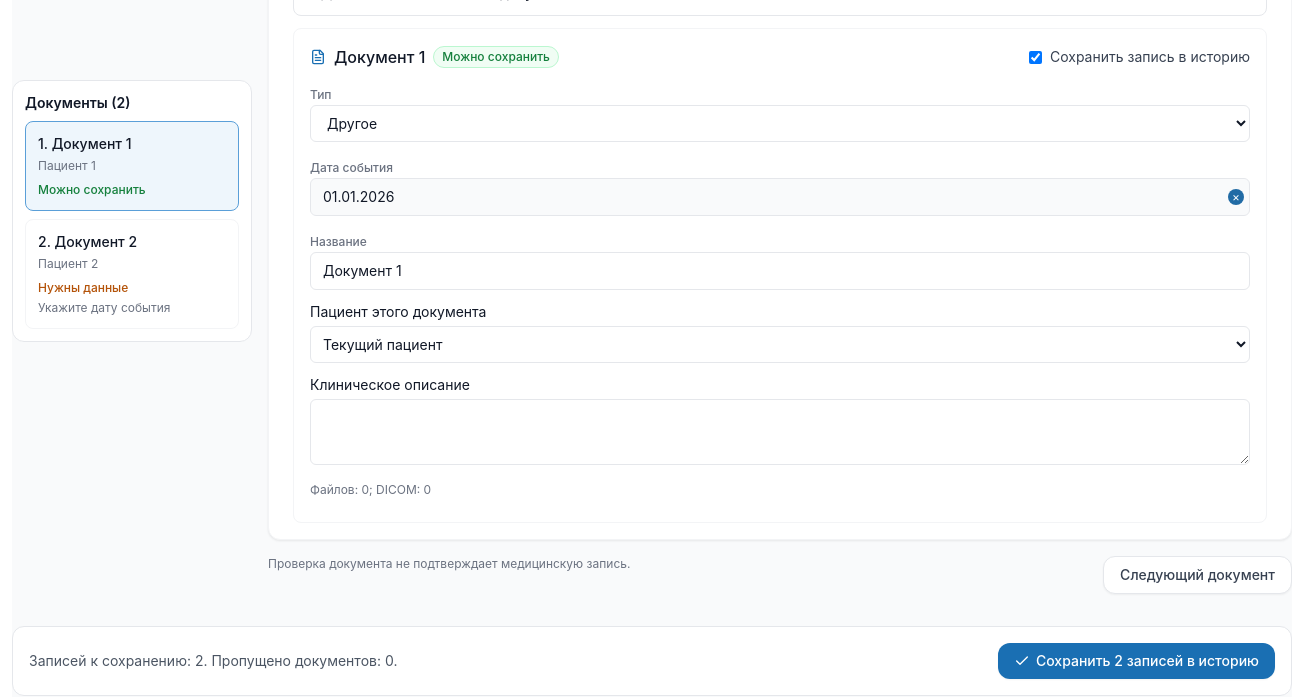
opens the missing-date document before asking the doctor to resolve it
(page scrolled)
Expected: the field labelled "Название" is shown, [310,252,1250,290]
Click the button "Сохранить 2 записей в историю". click: (1136, 661)
box: [998,643,1275,679]
(page scrolled)
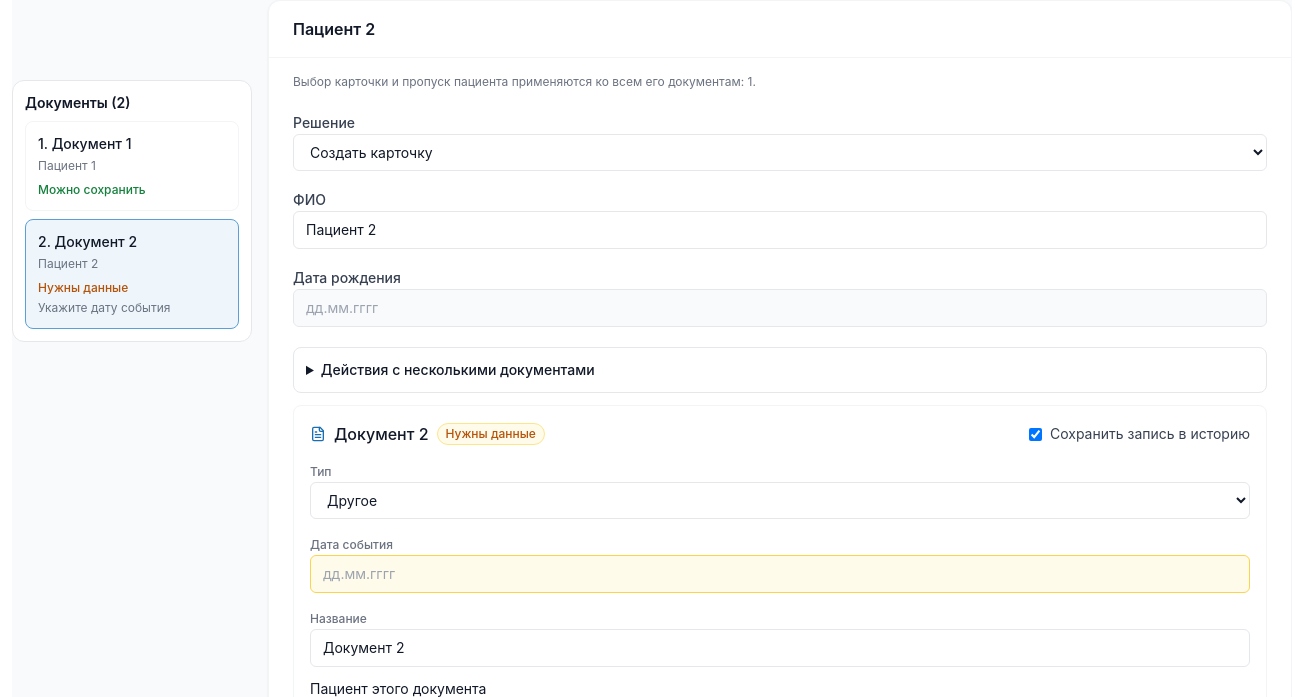
Result: the field labelled "Название" holds "Документ 2" at [310,629,1250,667]
Result: the field labelled "Дата события" is empty at [310,555,1250,593]
